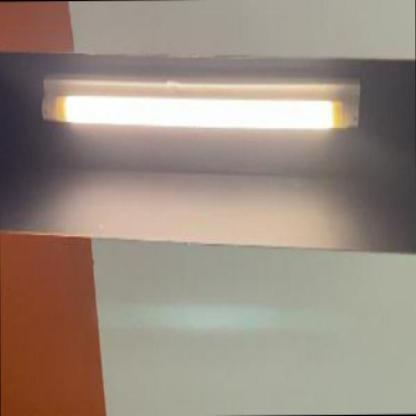light_on: (35, 46, 368, 160)
